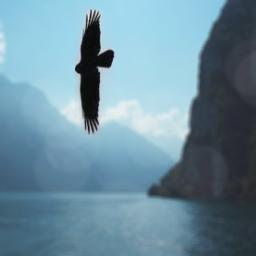Crow: (75, 9, 115, 135)
